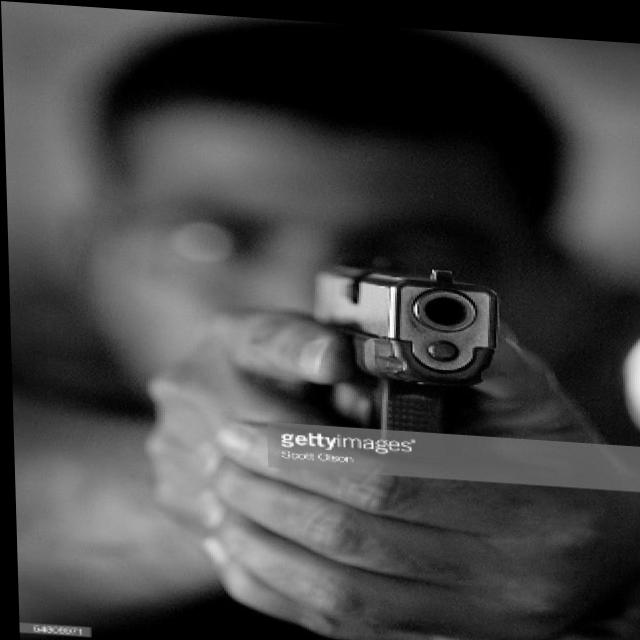handgun: (307, 245, 506, 453)
